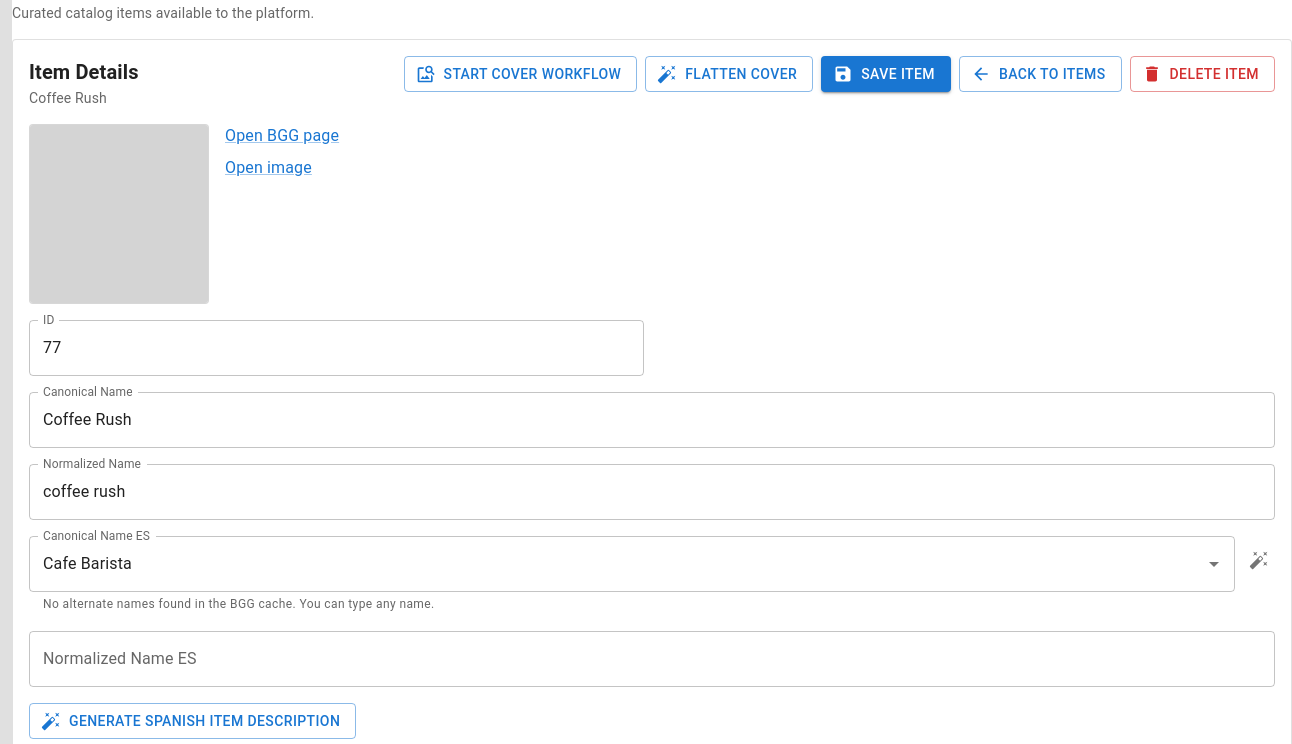
Test: ItemsPage › regenerates and saves a Spanish description from item details
This screenshot has width=1292, height=744.
Click the button "Generate Spanish item description" at [193, 721], box [29, 703, 356, 739]
(page scrolled)
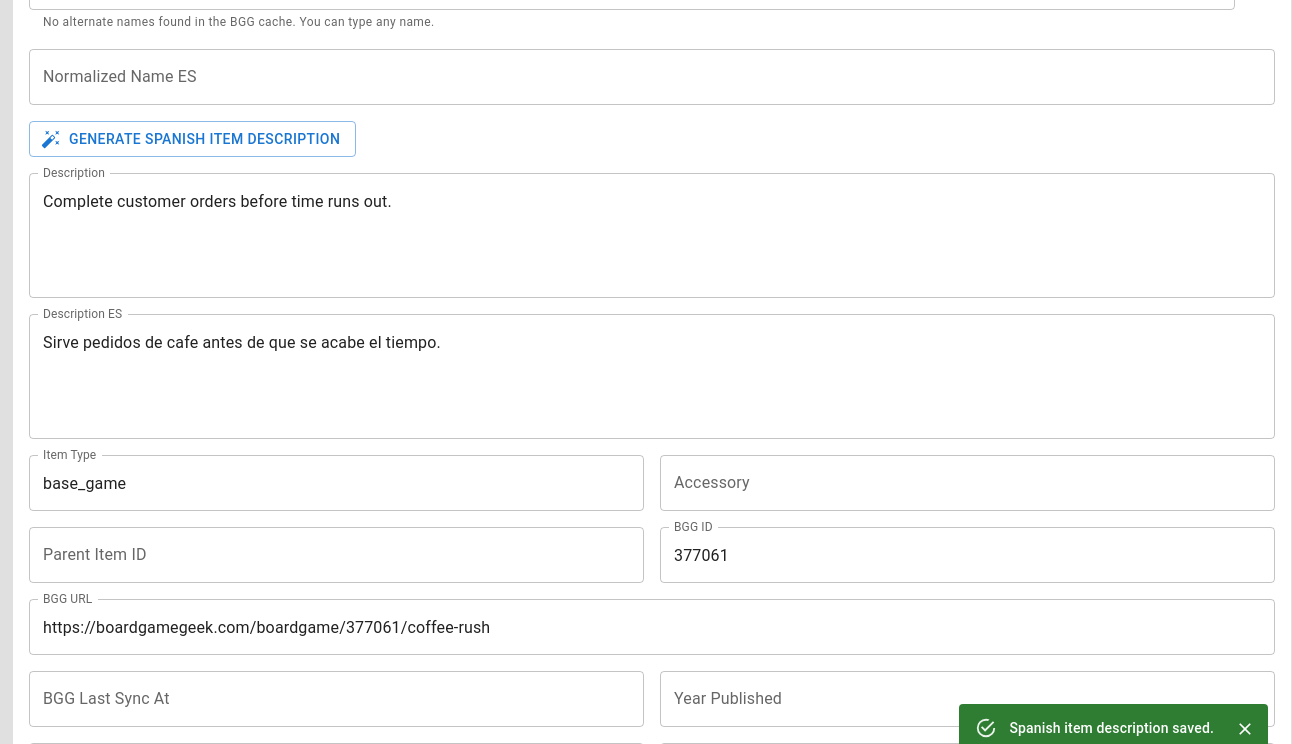
Check: the text "Spanish item description saved." is shown, box [1009, 720, 1214, 736]
Check: the text box labelled "Description ES" holds "Sirve pedidos de cafe antes de que se acabe el tiempo.", box [43, 331, 1261, 423]
